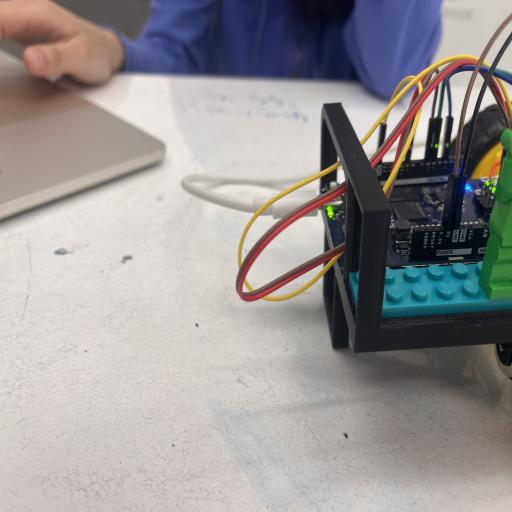Lego-Minifig: (479, 129, 512, 300)
